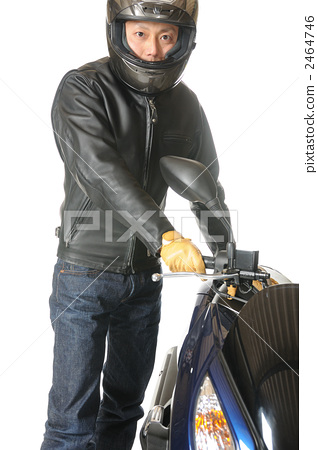helmet: (105, 3, 196, 95)
